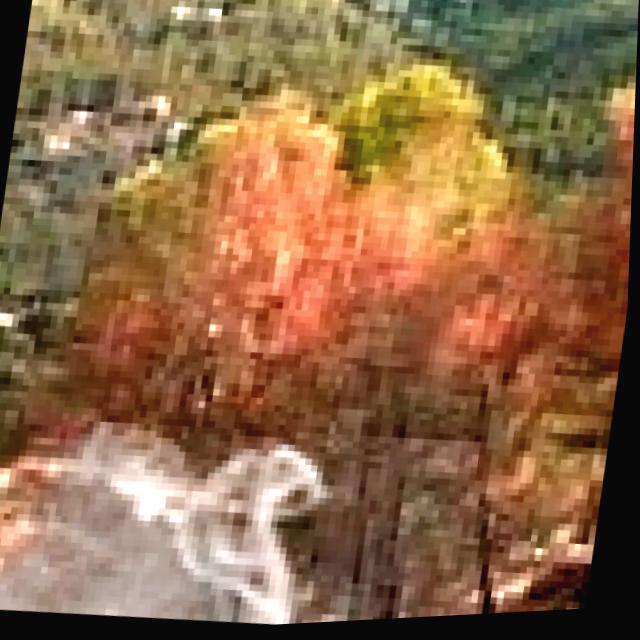smoke: (0, 386, 511, 640)
